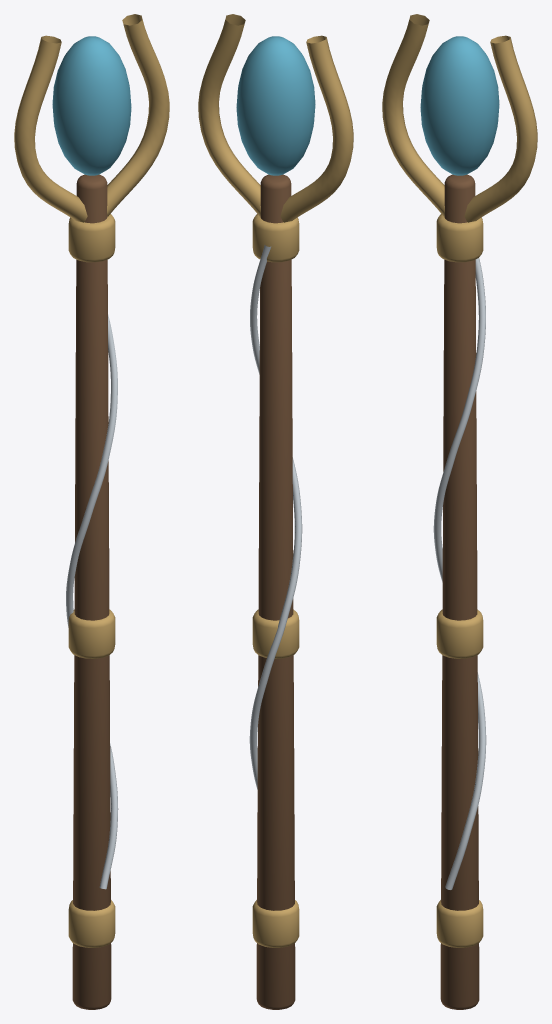
File: oak_staff.glb
The picture shows the model from 3 angles, left to right: view 1: azimuth 30°, elevation 25°; view 2: azimuth 150°, elevation 25°; view 3: azimuth 330°, elevation 25°; orthographic projection.
Parts seen in each view (by area): view 1: Carved shaft, Moonstone, Crescent cradle, Crescent cradle.001, Vine engraving, Brass ferrule.002, Brass ferrule.001, Brass ferrule; view 2: Carved shaft, Moonstone, Crescent cradle, Crescent cradle.001, Vine engraving, Brass ferrule, Brass ferrule.002, Brass ferrule.001; view 3: Carved shaft, Moonstone, Crescent cradle.001, Crescent cradle, Vine engraving, Brass ferrule.002, Brass ferrule.001, Brass ferrule.
Part boxes in pixels (<box>): Carved shaft: <box>72,174,111,1009</box>; Moonstone: <box>52,36,131,175</box>; Crescent cradle: <box>14,35,87,222</box>; Crescent cradle.001: <box>107,14,169,216</box>; Vine engraving: <box>66,314,118,889</box>; Brass ferrule.002: <box>68,214,115,262</box>; Brass ferrule.001: <box>68,609,115,658</box>; Brass ferrule: <box>68,900,115,947</box>; Carved shaft: <box>256,174,295,1009</box>; Moonstone: <box>236,36,315,175</box>; Crescent cradle: <box>280,35,353,222</box>; Crescent cradle.001: <box>198,14,260,216</box>; Vine engraving: <box>249,245,302,789</box>; Brass ferrule: <box>252,900,299,947</box>; Brass ferrule.002: <box>252,214,299,262</box>; Brass ferrule.001: <box>252,609,299,658</box>; Carved shaft: <box>440,174,479,1009</box>; Moonstone: <box>420,36,499,175</box>; Crescent cradle.001: <box>464,35,537,222</box>; Crescent cradle: <box>382,14,444,216</box>; Vine engraving: <box>433,258,486,889</box>; Brass ferrule.002: <box>436,214,483,262</box>; Brass ferrule.001: <box>436,609,483,658</box>; Brass ferrule: <box>436,900,483,947</box>.
Size of the model in its own units: 0.3788 by 2.3 by 0.17.
